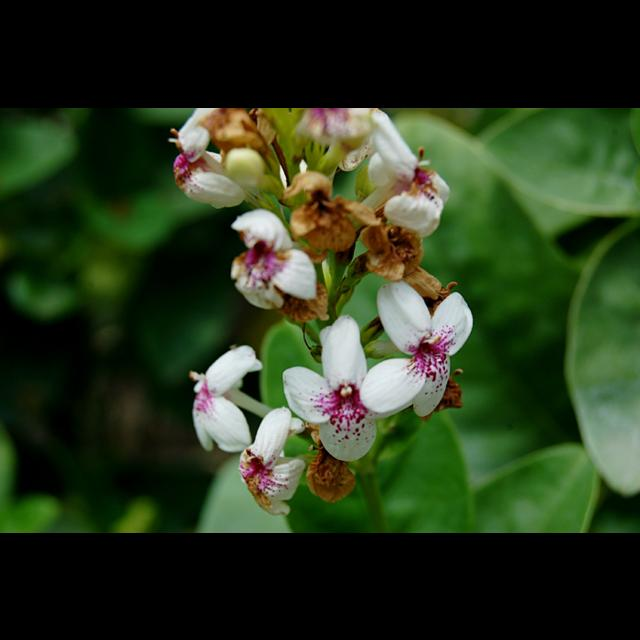Flower: (172, 109, 476, 518)
